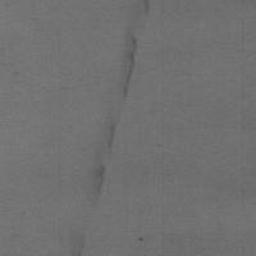Inclusion: (70, 33, 141, 256), (143, 0, 150, 15), (137, 236, 146, 243)
